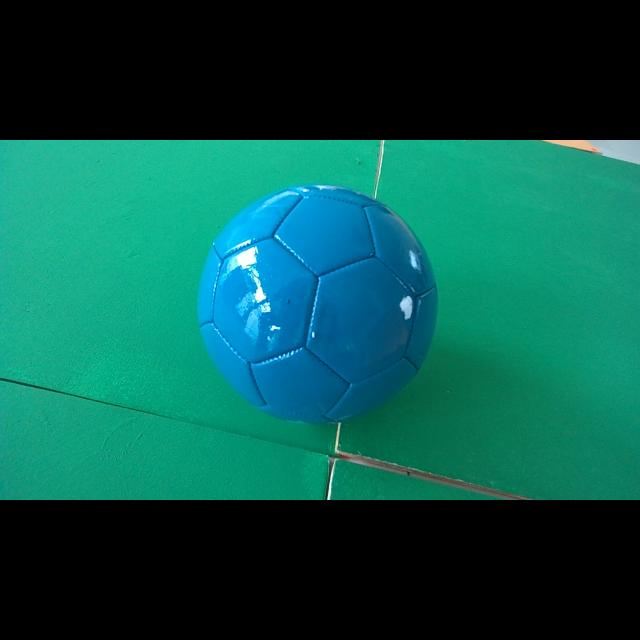B: (198, 185, 438, 422)
